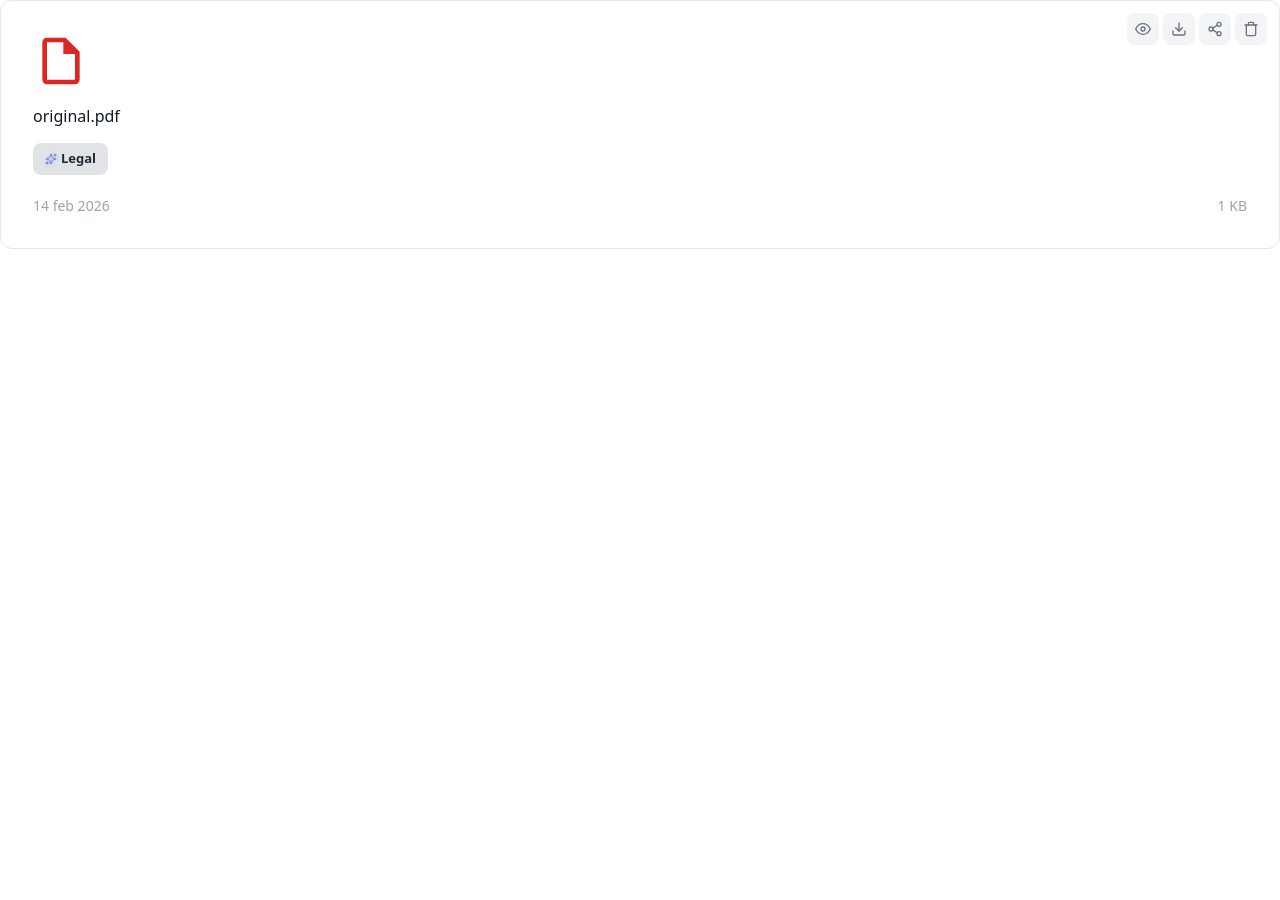
Test: DocumentCard › renders Share button when current user is owner and opens Share modal (loads members)
This screenshot has width=1280, height=900.
Step 1. Click the button titled "Compartir" → (1215, 29), box 1199,13 -> 1231,45
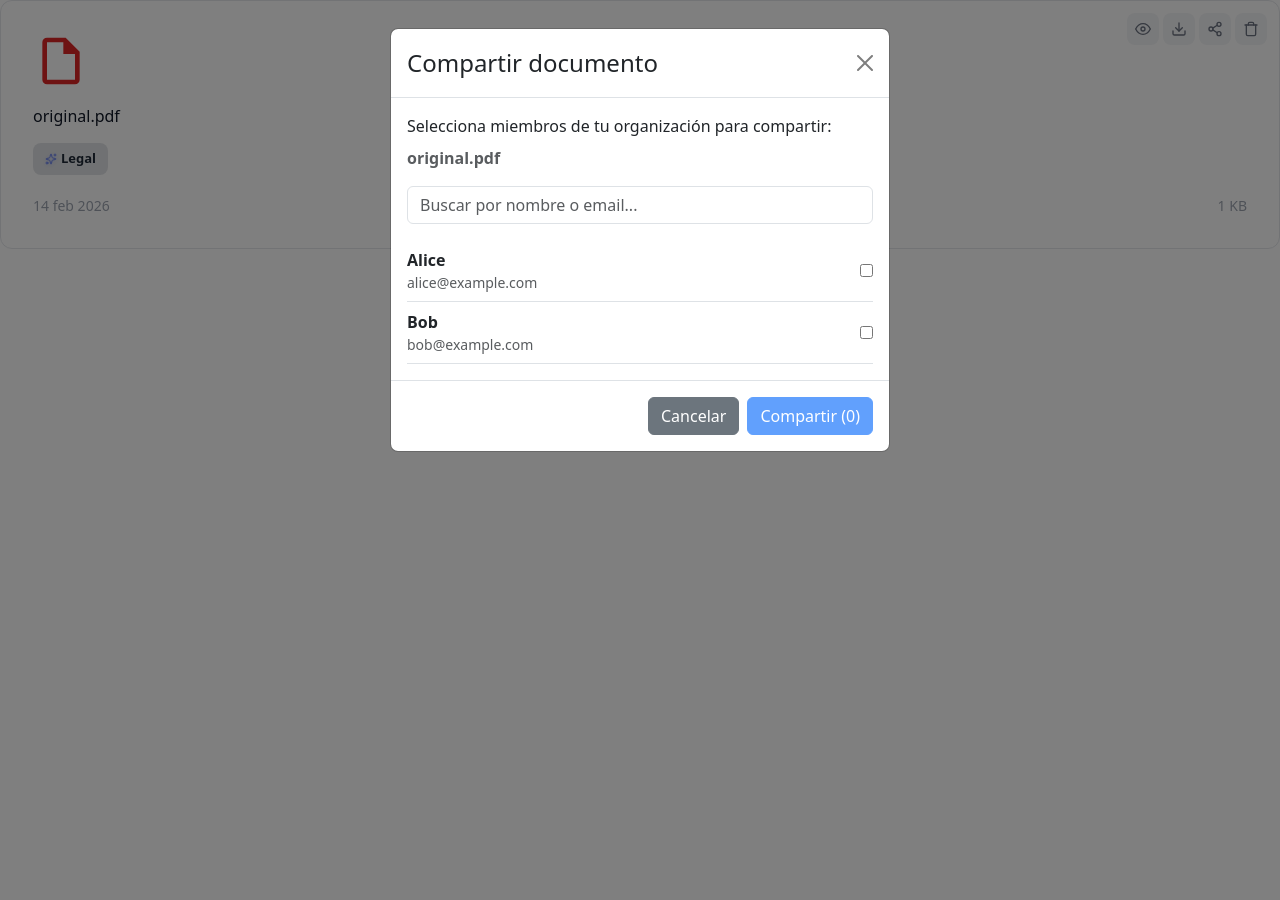
Expected: the text "Compartir documento" is shown, 407,45 -> 658,81
Expected: the text "Alice" is shown, 407,249 -> 446,271
Expected: the text "Bob" is shown, 407,311 -> 438,333
